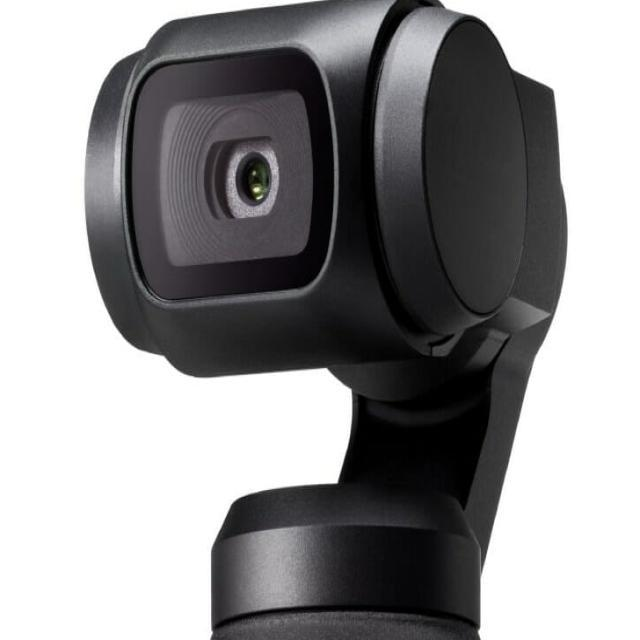hidden camera: (193, 124, 296, 239)
